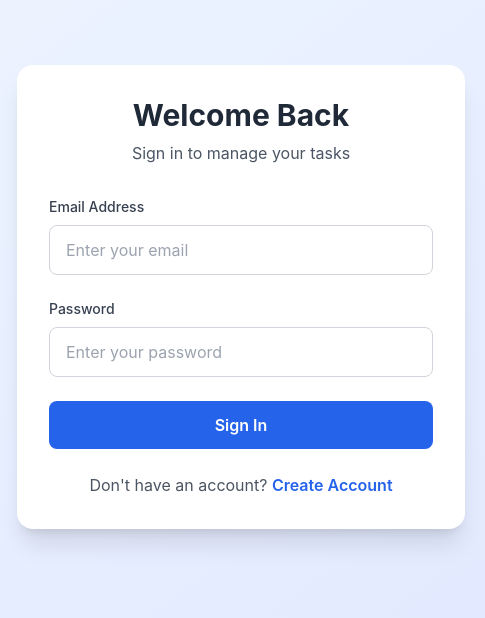
Login Component › handles network error (no response)
In the field with test id "email-input": point(241, 250) left=49, top=225, right=433, bottom=275, type "test@example.com"
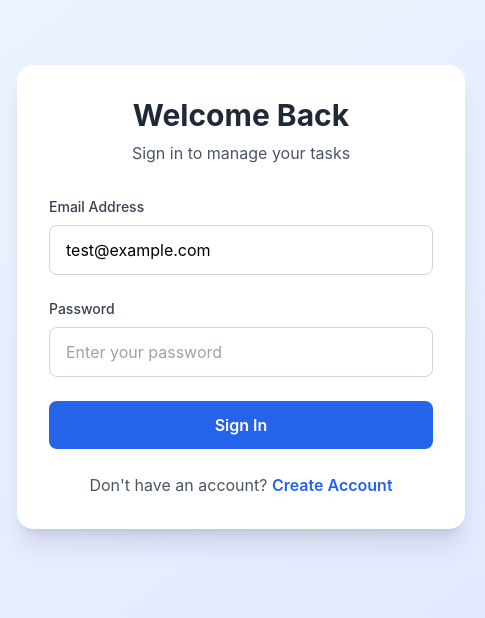
In the password field with test id "password-input": point(241, 352) left=49, top=327, right=433, bottom=377, type "password123"
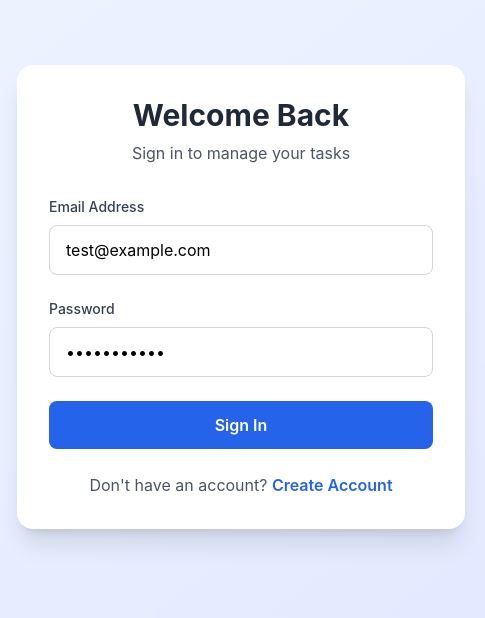
Click the button with test id "login-button": point(241, 425) left=49, top=401, right=433, bottom=449
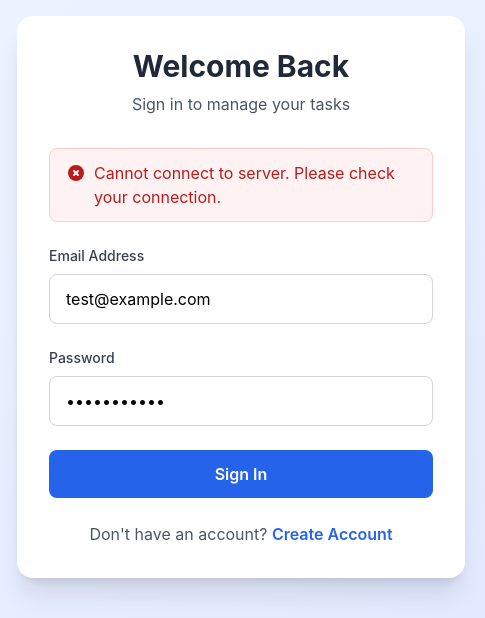
expect the text "Cannot connect to server. Please check your connection." is shown: met, box left=94, top=161, right=416, bottom=209
